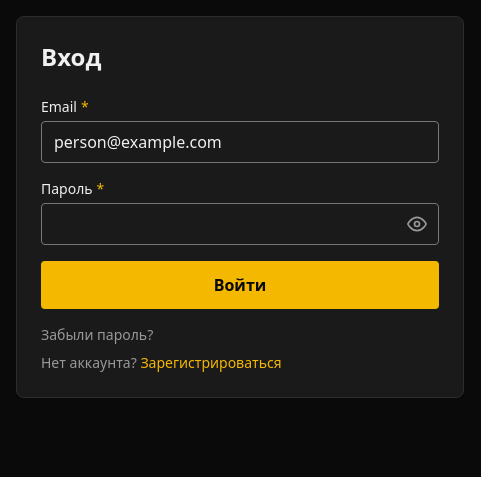
it: pending and error handling › keeps a failed login with Аккаунт неактивен. Доступ запрещён. on a correctable screen
Type "password123" into the password field with id "login-password".
click(240, 224); type("password123")  # box [41,203,439,245]
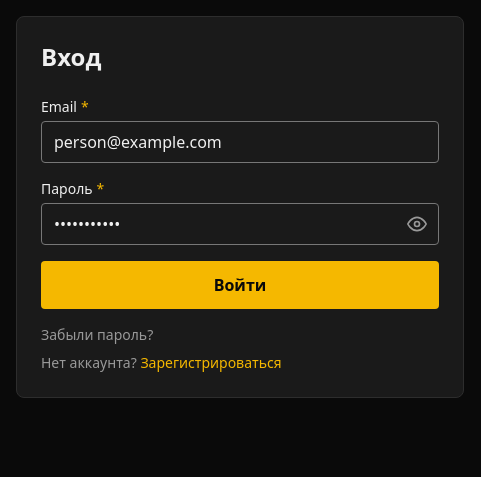
Submit the form, box [41,97,439,309]
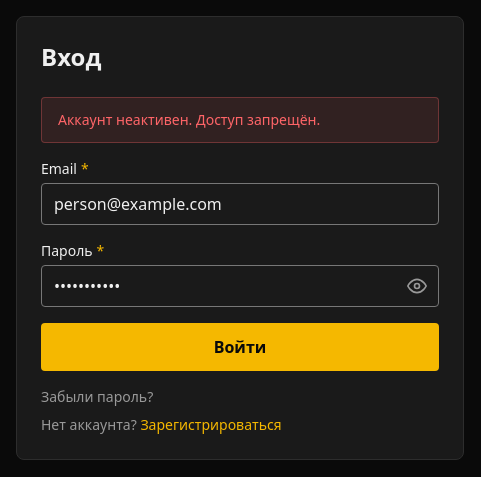
Expected: the field with id "login-email" holds "person@example.com", [41,183,439,225]
Expected: the message reads "Аккаунт неактивен. Доступ запрещён.", [58,110,320,129]
